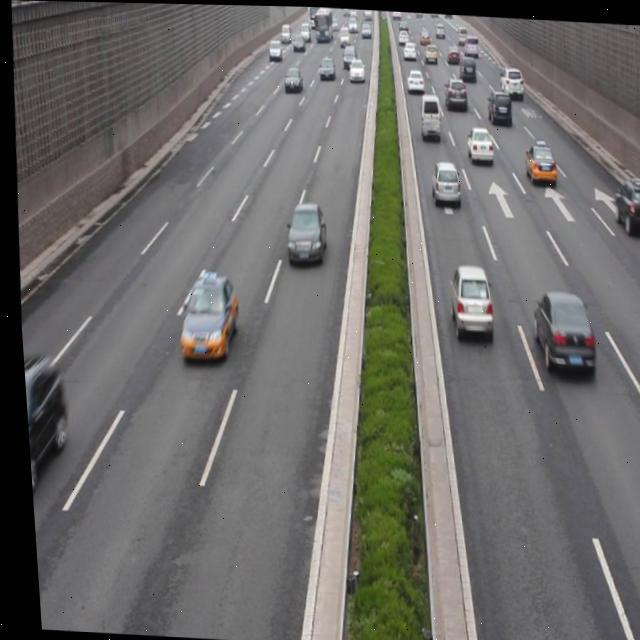car: (524, 288, 593, 379), (171, 271, 235, 362), (441, 261, 490, 340), (279, 199, 324, 266), (607, 175, 640, 235), (520, 139, 555, 183), (426, 159, 458, 204), (462, 122, 492, 163)
